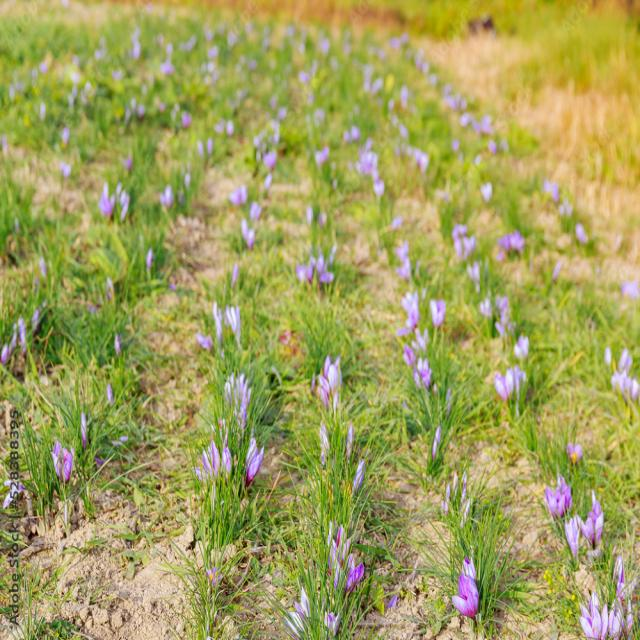saffron open: (580, 491, 604, 547), (51, 440, 74, 484)
